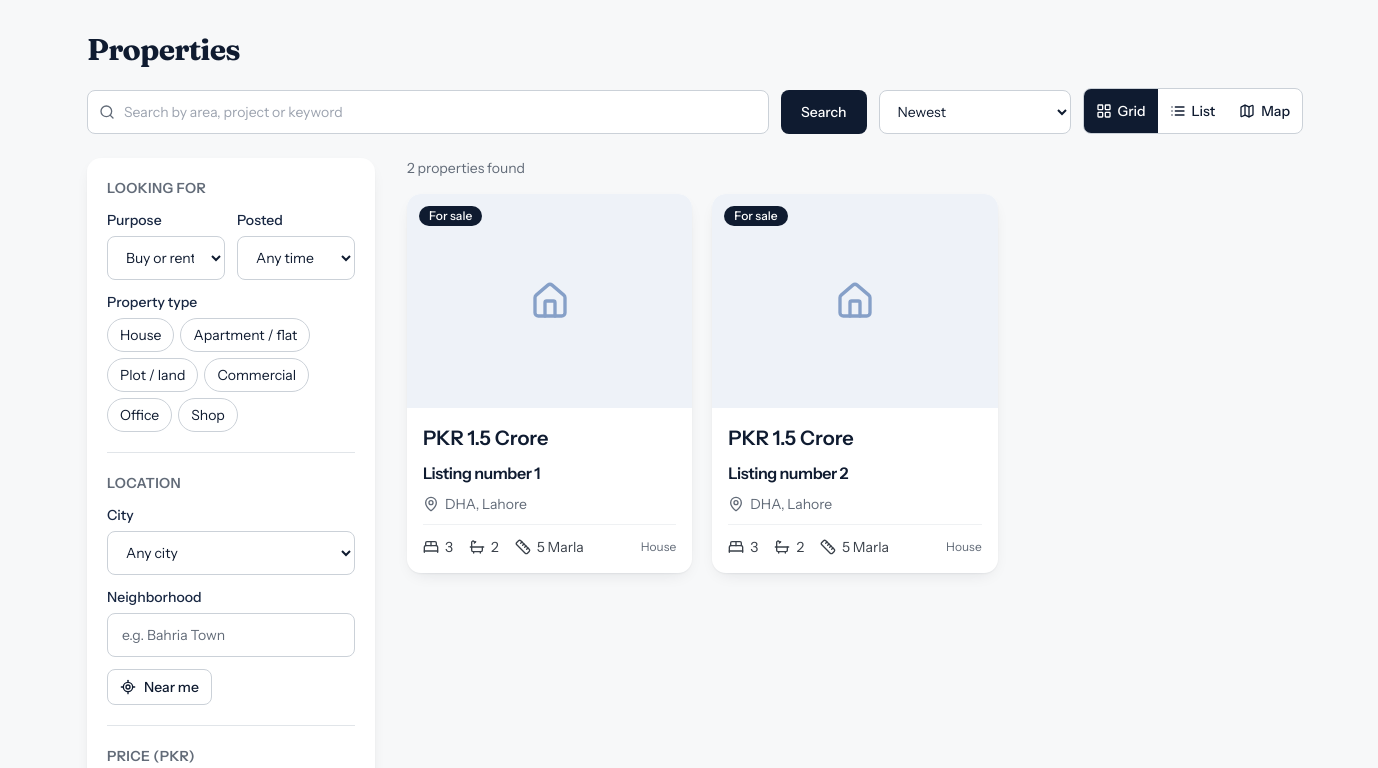
Test: search page › applies a sidebar filter immediately, and typed numbers after a pause
Expected: the link "Listing number 1" is shown, [423,463,540,483]
Select "For rent" in the dropdown labelled "Purpose" at x=166, y=258, box [107,236,225,280]
(page scrolled)
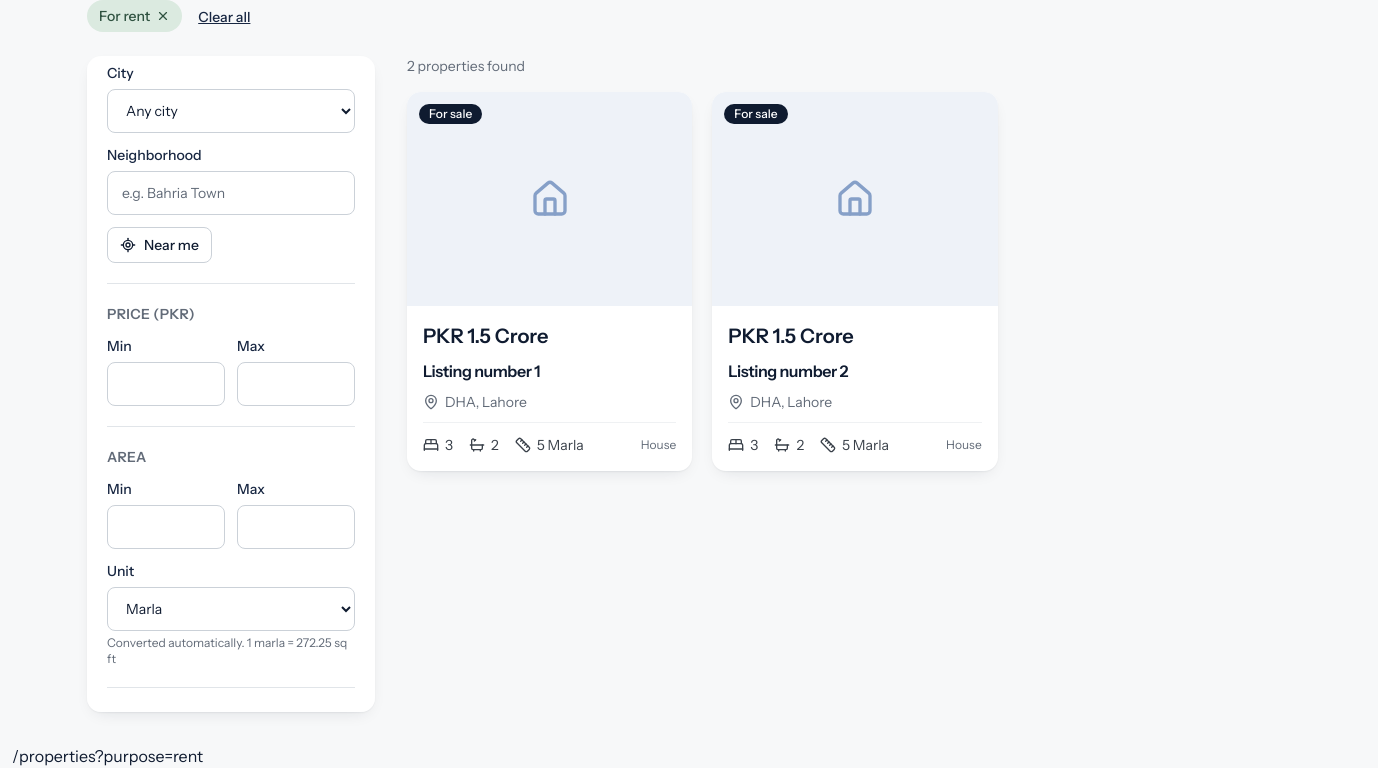
Now the text with test id "url" reads "/properties?purpose=rent", box [12,746,203,766]
Type "90000" into the number field labelled "Min" below "Price (PKR)".
click(166, 384); type("90000")  # box [107,362,225,406]
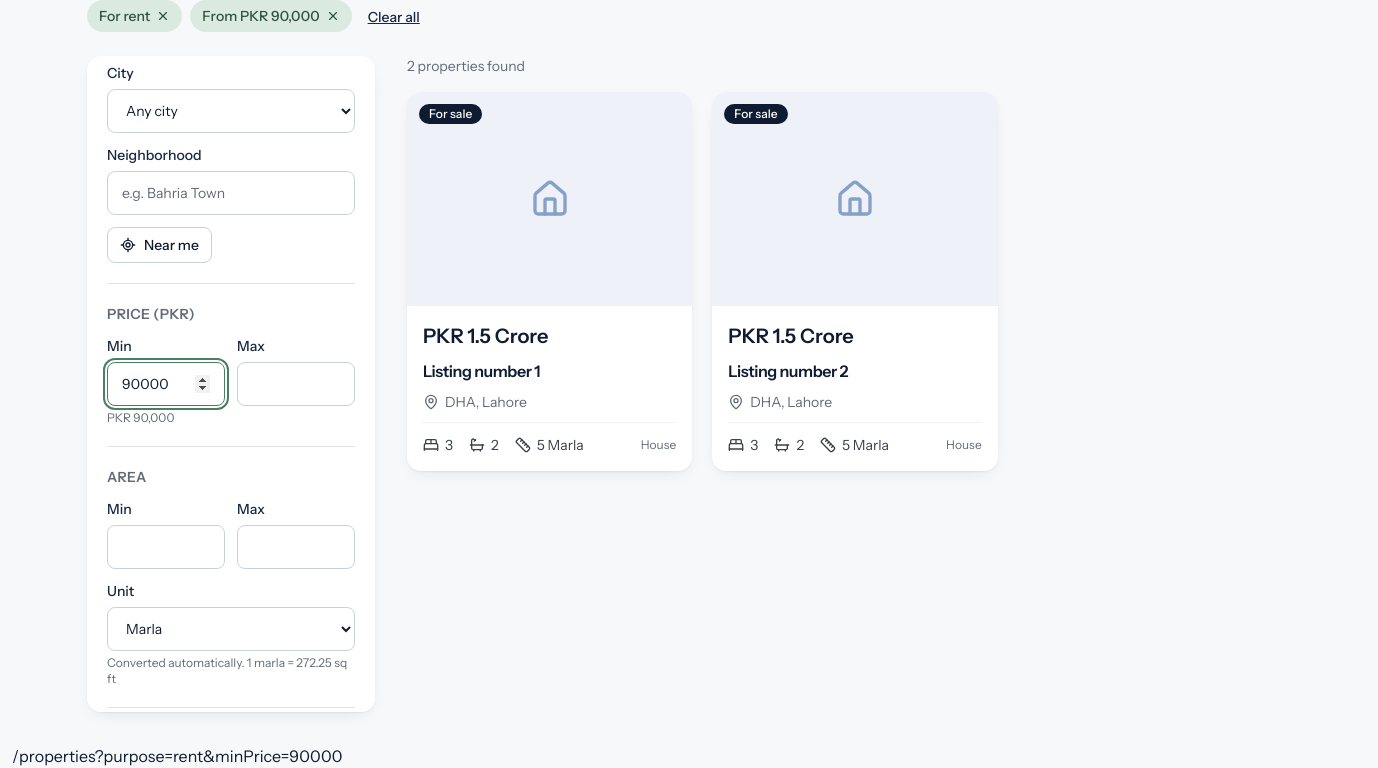
Now the text with test id "url" shows "minPrice=90000", box [94,746,342,766]
